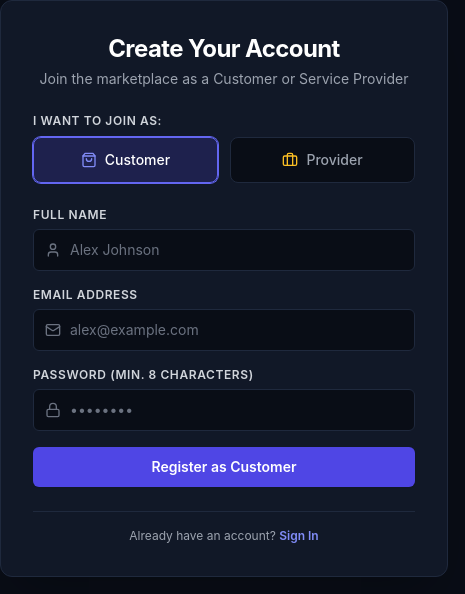
Test: RegisterForm (Fake DOM / Component Tests) › should switch form role between customer and provider on register page
expect the button with test id "submit-button" reads "Register as Customer": met, box [33,447,415,487]
Note: Switch to provider
Click the button with test id "role-provider-btn": (322, 160) [230,137,415,183]
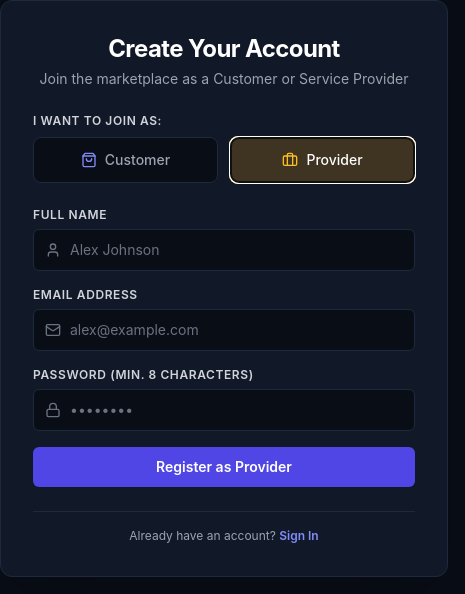
expect the button with test id "submit-button" reads "Register as Provider": met, box [33,447,415,487]
Note: Switch back to customer
Click the button with test id "role-customer-btn": (126, 160) [33,137,218,183]
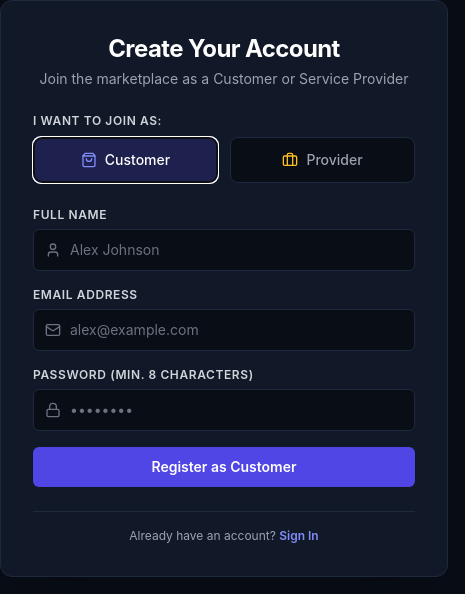
expect the button with test id "submit-button" reads "Register as Customer": met, box [33,447,415,487]
